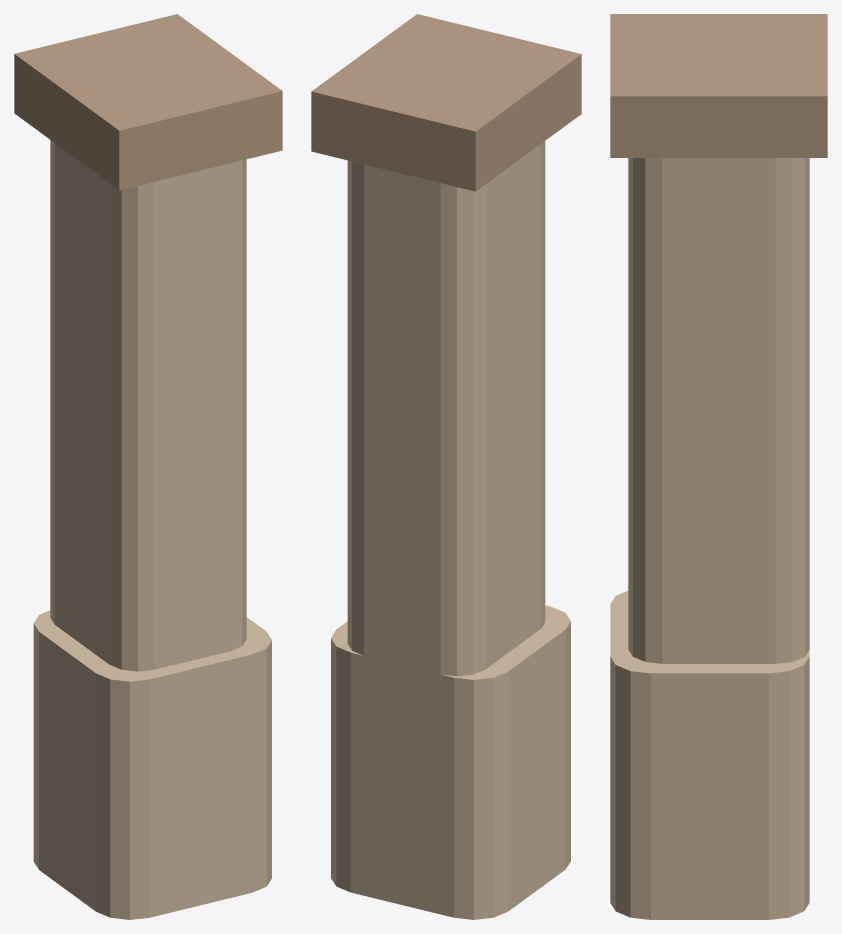
File: city_facade_end.glb
3 views of the same model, side by side, from view 1: azimuth 30°, elevation 25°; view 2: azimuth 150°, elevation 25°; view 3: azimuth 270°, elevation 25° (orthographic). The views are drawn at different scales.
Parts seen in each view (by area): view 1: CityFacadeEnd_Pilaster, CityFacadeEnd_Step, CityFacadeEnd_Band; view 2: CityFacadeEnd_Pilaster, CityFacadeEnd_Step, CityFacadeEnd_Band; view 3: CityFacadeEnd_Pilaster, CityFacadeEnd_Step, CityFacadeEnd_Band.
Boxes of the visible parts, left/top/right/bottom form: CityFacadeEnd_Pilaster: left=50, top=140, right=246, bottom=671; CityFacadeEnd_Step: left=33, top=610, right=271, bottom=919; CityFacadeEnd_Band: left=14, top=14, right=282, bottom=190; CityFacadeEnd_Pilaster: left=347, top=141, right=545, bottom=913; CityFacadeEnd_Step: left=331, top=605, right=570, bottom=919; CityFacadeEnd_Band: left=311, top=14, right=581, bottom=191; CityFacadeEnd_Pilaster: left=628, top=158, right=809, bottom=663; CityFacadeEnd_Step: left=610, top=591, right=809, bottom=919; CityFacadeEnd_Band: left=610, top=14, right=827, bottom=157.
Bounding box in the file's own units: 0.9 × 4 × 0.96.
